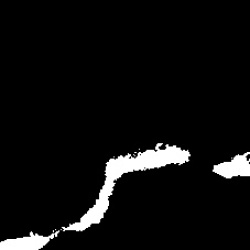crack: (1, 142, 190, 249), (213, 152, 249, 178)
